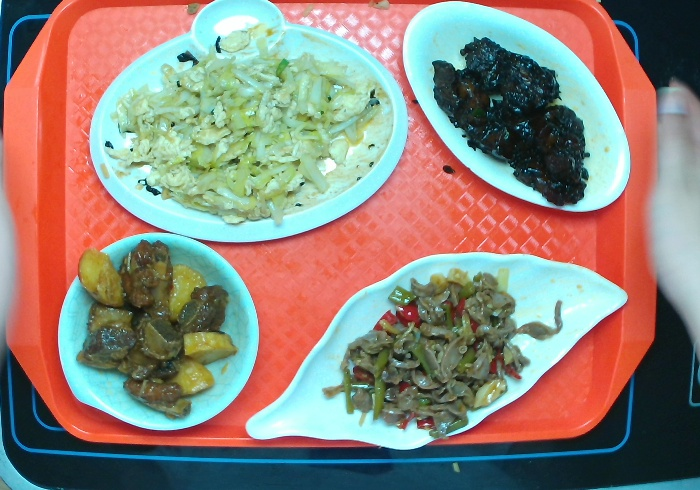RJxy-Bai_Se_Tuo_Yuan: (400, 1, 634, 217)
RJxy-Shu_Ye_Pan: (243, 247, 632, 455)
RJxy-Xiao_Jiao_Yuan_Wan: (51, 227, 262, 436)
RJxy-Zhan_Liao_Pan: (84, 1, 412, 247)
